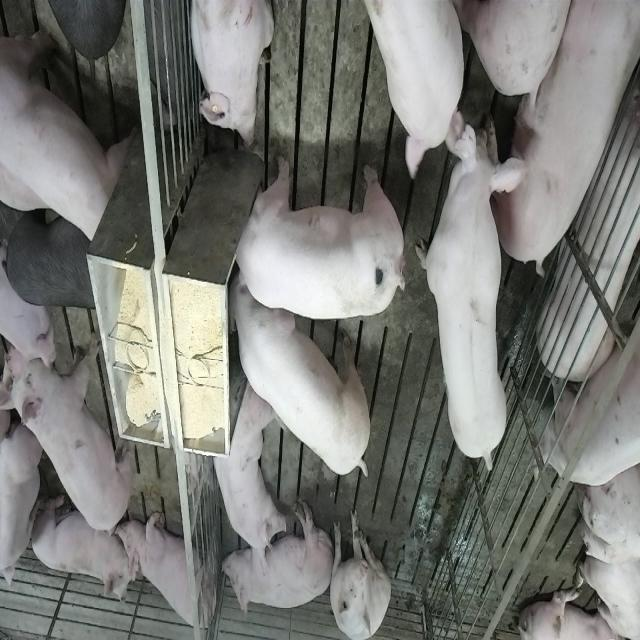Feeding: (228, 272, 376, 480), (232, 156, 409, 322)
Lateral_lying: (490, 0, 640, 272), (539, 63, 640, 387), (222, 500, 334, 616)
Sitting: (124, 506, 216, 636), (328, 506, 390, 638)
Standing: (420, 104, 518, 470), (2, 24, 132, 246), (5, 322, 136, 530), (358, 0, 474, 181), (541, 292, 640, 483), (3, 201, 99, 313)
Sternal_lying: (207, 382, 285, 571), (187, 0, 275, 150), (30, 490, 136, 602)
